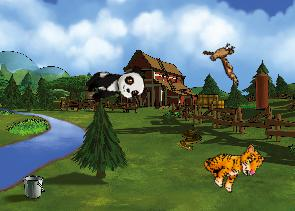eagle: (195, 34, 253, 86)
panda: (83, 64, 148, 106)
tiger: (198, 129, 268, 199)
